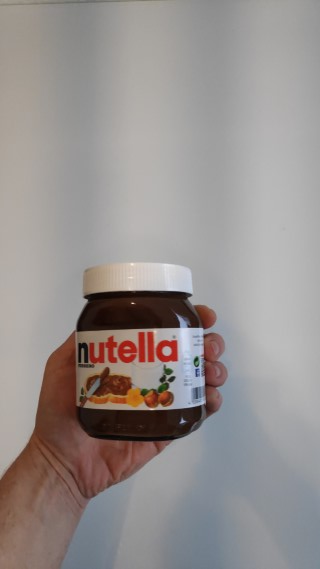nutella: (73, 260, 206, 443)
